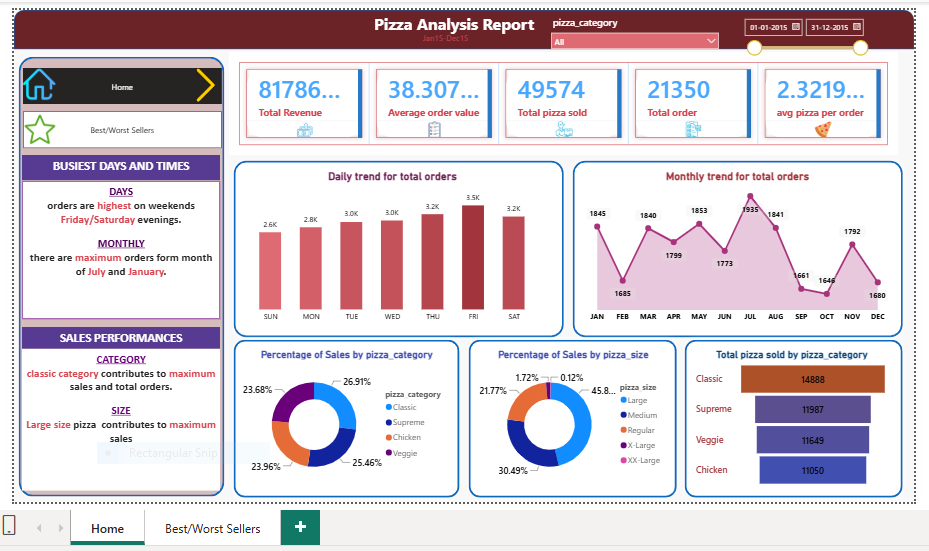

This screenshot's page, from the dashboard's own definition file:
{"tool":"powerbi","page":{"name":"Home","canvas":[1500,820],"ordinal":0},"visuals":[{"type":"shape","box":[0,70.1,358.5,749],"z":0},{"type":"cardVisual","fields":{"Data":["pizza_sales.Total Revenue","pizza_sales.Average value","pizza_sales.Total pizza sold","pizza_sales.Total order","pizza_sales.avg pizza per order"]},"box":[357.5,70.5,1115.2,172.2],"z":1000},{"type":"shape","box":[0,0,1500,65.6],"z":2000},{"type":"textbox","box":[14,242.3,330.4,42.1],"z":3000},{"type":"textbox","box":[582,0,303.3,65.6],"z":4000},{"type":"textbox","box":[677,32.8,116.4,37.7],"z":5000},{"type":"shape","box":[357.5,242.7,565.8,310],"z":6000},{"type":"columnChart","title":"Daily trend for total orders","fields":{"Category":["pizza_sales.Order day"],"Y":["pizza_sales.Total order"]},"box":[377.2,267.3,508.4,262.4],"z":7000},{"type":"shape","box":[923.3,242.7,565.8,310],"z":8000},{"type":"areaChart","title":"Monthly trend for total orders","fields":{"Y":["pizza_sales.Total order"],"Category":["pizza_sales.Order Month"]},"box":[949.6,267.3,511.7,262.4],"z":9000},{"type":"shape","box":[357.5,541.2,392,278.8],"z":10000},{"type":"shape","box":[1110.3,541.2,378.8,278.8],"z":11000},{"type":"shape","box":[749.5,541.2,362.4,278.8],"z":12000},{"type":"donutChart","title":"Percentage of Sales by pizza_category","fields":{"Category":["pizza_sales.pizza_category"],"Y":["pizza_sales.Total Revenue"]},"box":[377.2,564.2,355.9,236.2],"z":13000},{"type":"donutChart","title":"Percentage of Sales by pizza_size","fields":{"Y":["pizza_sales.Total Revenue"],"Category":["pizza_sales.pizza_size"]},"box":[770.8,564.2,324.7,236.2],"z":14000},{"type":"funnel","fields":{"Category":["pizza_sales.pizza_category"],"Y":["pizza_sales.Total pizza sold"]},"box":[1131.6,564.2,329.6,236.2],"z":15000},{"type":"textbox","box":[14,284.4,330.4,230.3],"z":16000},{"type":"textbox","box":[14,528.7,330.4,36],"z":17000},{"type":"textbox","box":[14,564.8,330.4,236.3],"z":18000},{"type":"slicer","title":"Pizza_Category","fields":{"Values":["pizza_sales.pizza_category"]},"box":[884.9,5,300,60.3],"z":19000},{"type":"slicer","title":"Pizza_Category","fields":{"Values":["pizza_sales.order_date"]},"box":[1205,5,226.3,78.8],"z":20000},{"type":"pageNavigator","box":[14.8,96.7,331.1,60.7],"z":20001},{"type":"pageNavigator","box":[14.8,168.9,331.1,62.3],"z":20002},{"type":"image","box":[280.3,96.7,78.7,57.4],"z":20003},{"type":"image","box":[14.8,96.7,54.1,54.1],"z":20004},{"type":"image","box":[11.5,173.8,62.3,50.8],"z":20005}]}

Visuals, with their boxes on the page's 1500x820 design canvas (x1, y1, x2, y2). These are canvas units, not pixel positions in the 929x551 screenshot, which may show the page scaled, cropped or inside an application window:
shape: BBox(0, 70, 358, 819)
cardVisual - pizza_sales.Total Revenue x pizza_sales.Average value: BBox(358, 70, 1473, 243)
shape: BBox(0, 0, 1500, 66)
textbox: BBox(14, 242, 344, 284)
textbox: BBox(582, 0, 885, 66)
textbox: BBox(677, 33, 793, 70)
shape: BBox(358, 243, 923, 553)
"Daily trend for total orders" columnChart: BBox(377, 267, 886, 530)
shape: BBox(923, 243, 1489, 553)
"Monthly trend for total orders" areaChart: BBox(950, 267, 1461, 530)
shape: BBox(358, 541, 750, 820)
shape: BBox(1110, 541, 1489, 820)
shape: BBox(750, 541, 1112, 820)
"Percentage of Sales by pizza_category" donutChart: BBox(377, 564, 733, 800)
"Percentage of Sales by pizza_size" donutChart: BBox(771, 564, 1096, 800)
funnel - pizza_sales.pizza_category x pizza_sales.Total pizza sold: BBox(1132, 564, 1461, 800)
textbox: BBox(14, 284, 344, 515)
textbox: BBox(14, 529, 344, 565)
textbox: BBox(14, 565, 344, 801)
"Pizza_Category" slicer: BBox(885, 5, 1185, 65)
"Pizza_Category" slicer: BBox(1205, 5, 1431, 84)
pageNavigator: BBox(15, 97, 346, 157)
pageNavigator: BBox(15, 169, 346, 231)
image: BBox(280, 97, 359, 154)
image: BBox(15, 97, 69, 151)
image: BBox(12, 174, 74, 225)
